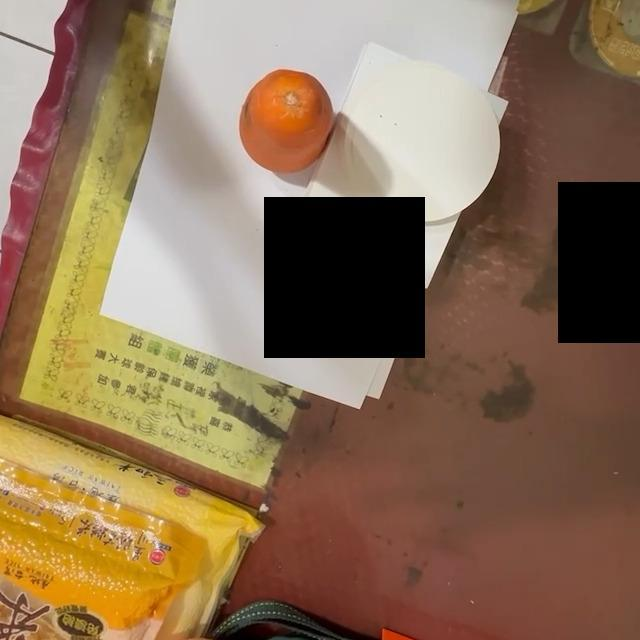carrot: (237, 69, 338, 174)
